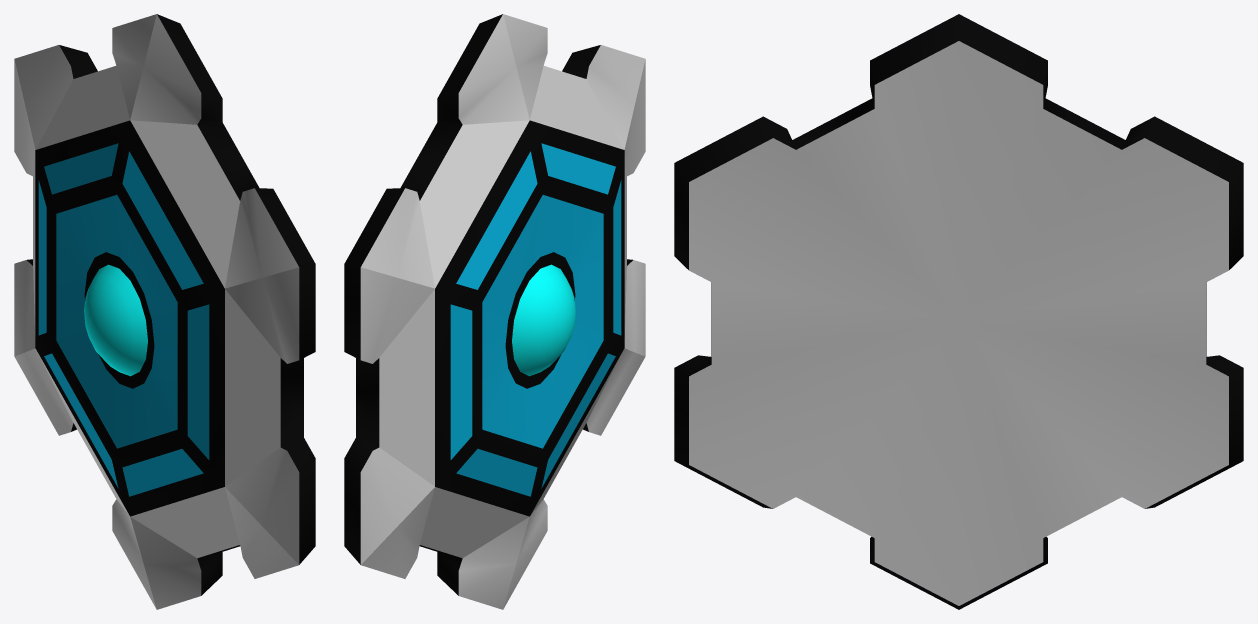
The model's file is ice_shield_278d0647.glb.
3 views of the same model, side by side, from view 1: azimuth 30°, elevation 25°; view 2: azimuth 150°, elevation 25°; view 3: azimuth 270°, elevation 25° (orthographic).
Size of the model in its own units: 0.1846 by 1.2 by 1.04.
1 material, 1 textured.
